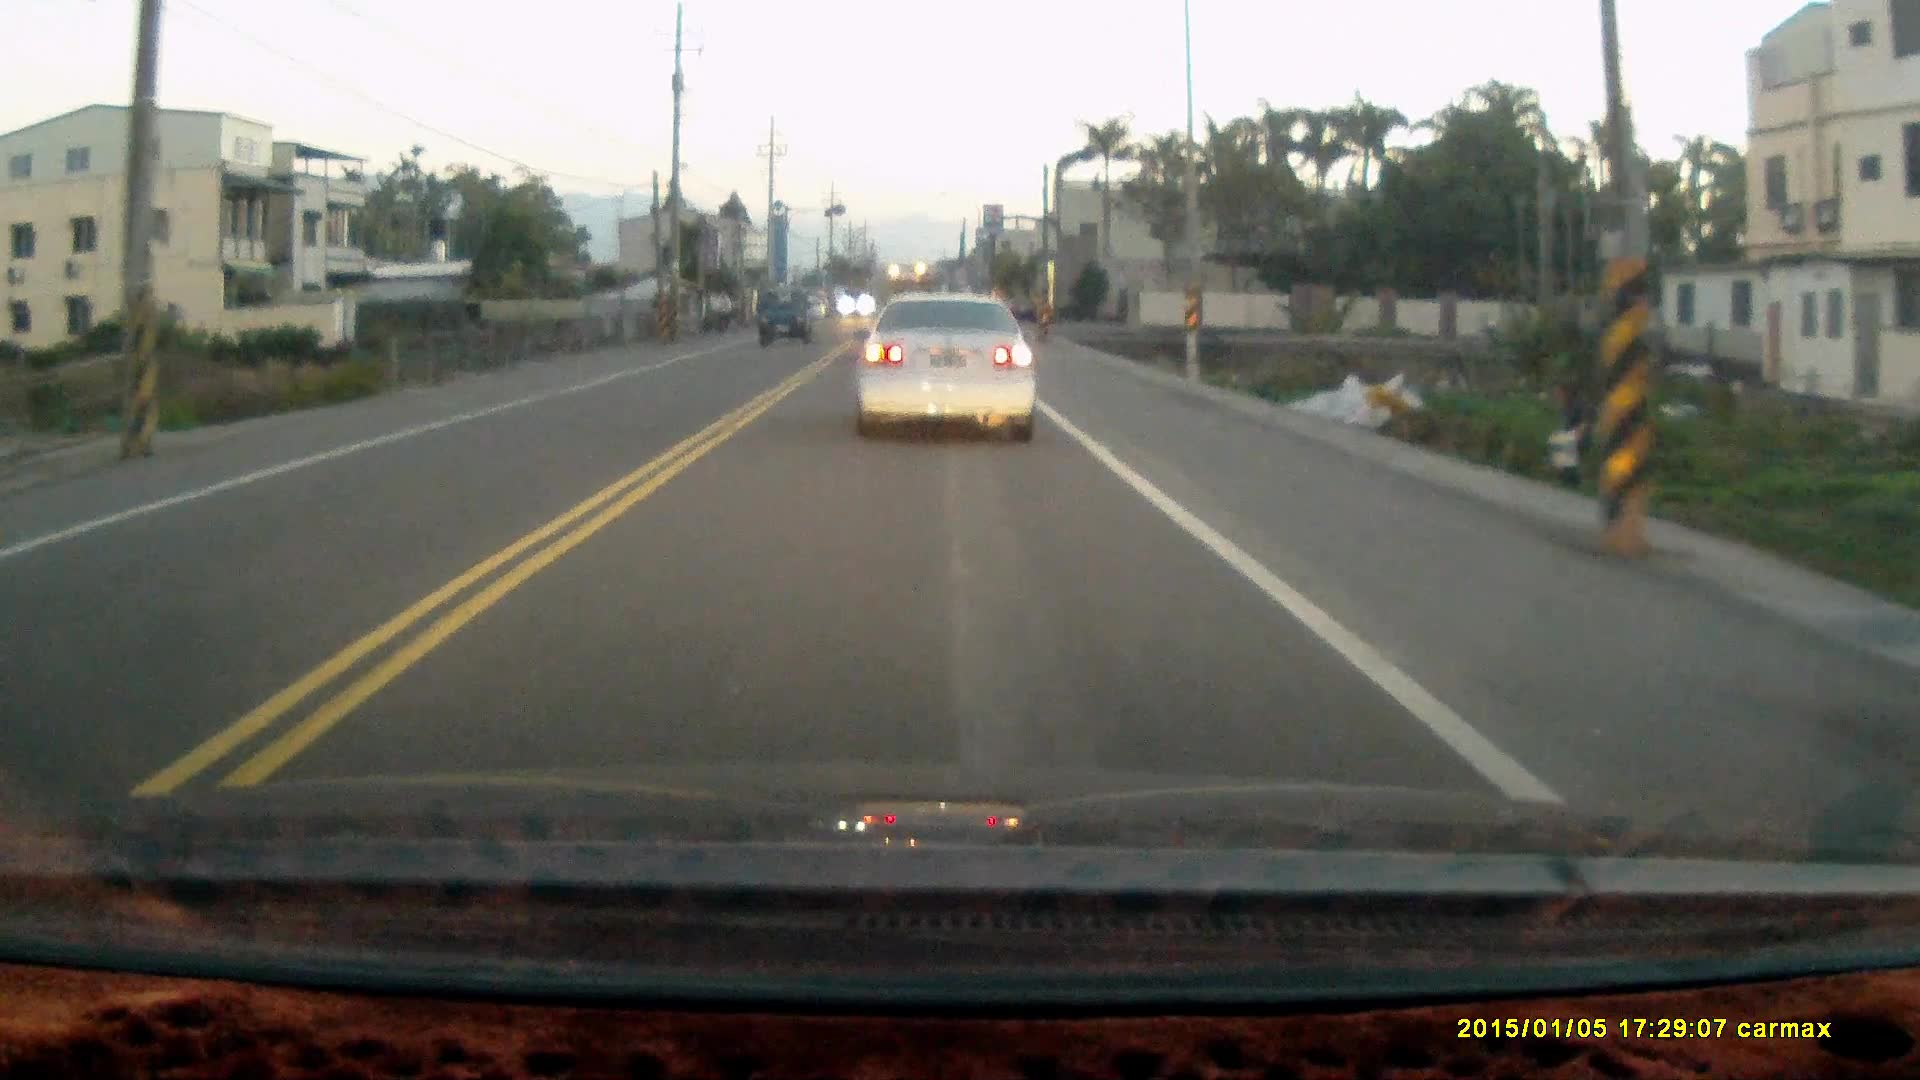pedestrian: (1551, 378, 1588, 492)
rider: (710, 283, 732, 339)
vehicle: (856, 290, 1043, 430), (756, 287, 817, 350)
